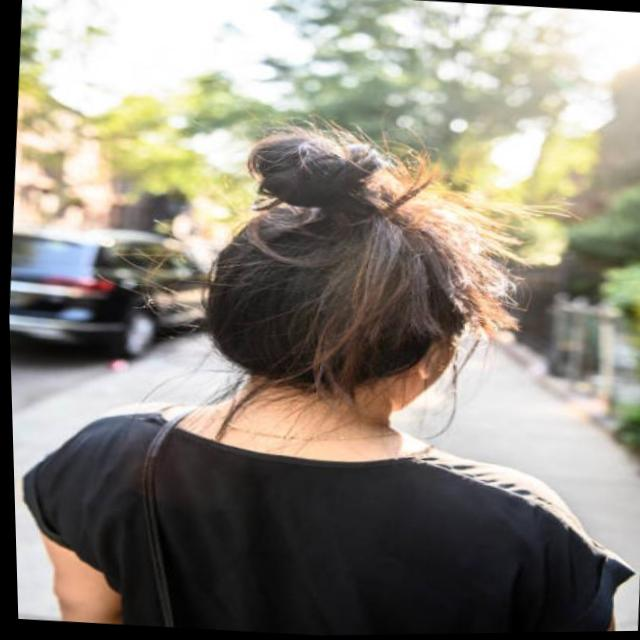no helmet: (166, 95, 519, 448)
